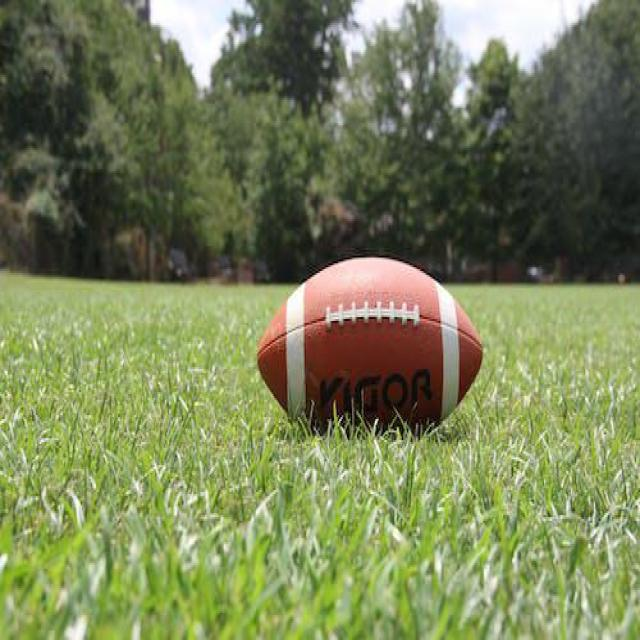ball: (248, 248, 488, 444)
